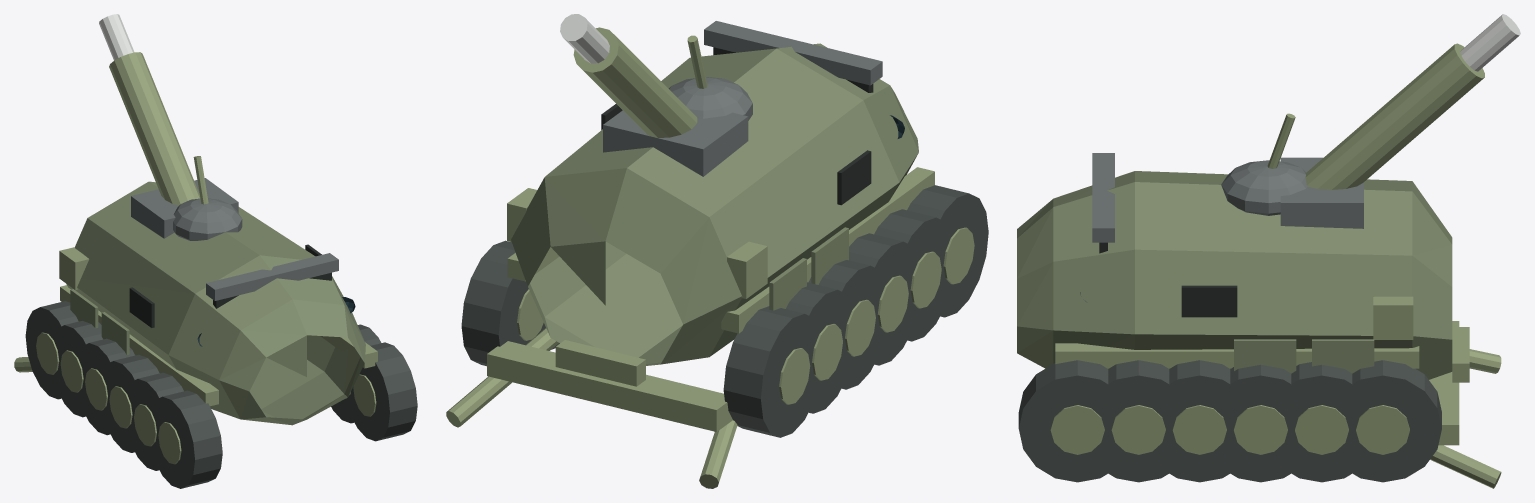
The model's file is caesar-155mm.glb.
The picture shows the model from 3 angles, left to right: view 1: azimuth 30°, elevation 25°; view 2: azimuth 150°, elevation 25°; view 3: azimuth 270°, elevation 25°; orthographic projection. The views are drawn at different scales.
Parts seen in each view (by area): view 1: caesar-155mm; view 2: caesar-155mm; view 3: caesar-155mm.
Boxes of the visible parts, x1=… form: caesar-155mm: x1=14, y1=14, x2=417, y2=488; caesar-155mm: x1=446, y1=14, x2=988, y2=488; caesar-155mm: x1=1017, y1=14, x2=1520, y2=488.
Bounding box in the file's own units: 1.89 × 2.64 × 2.91.
